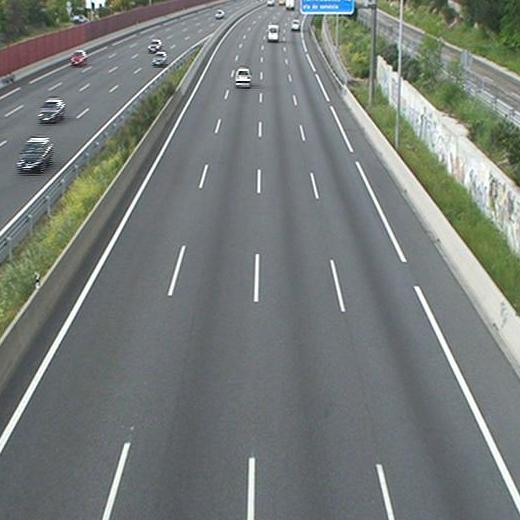car: (234, 67, 252, 88)
van: (267, 23, 280, 43)
